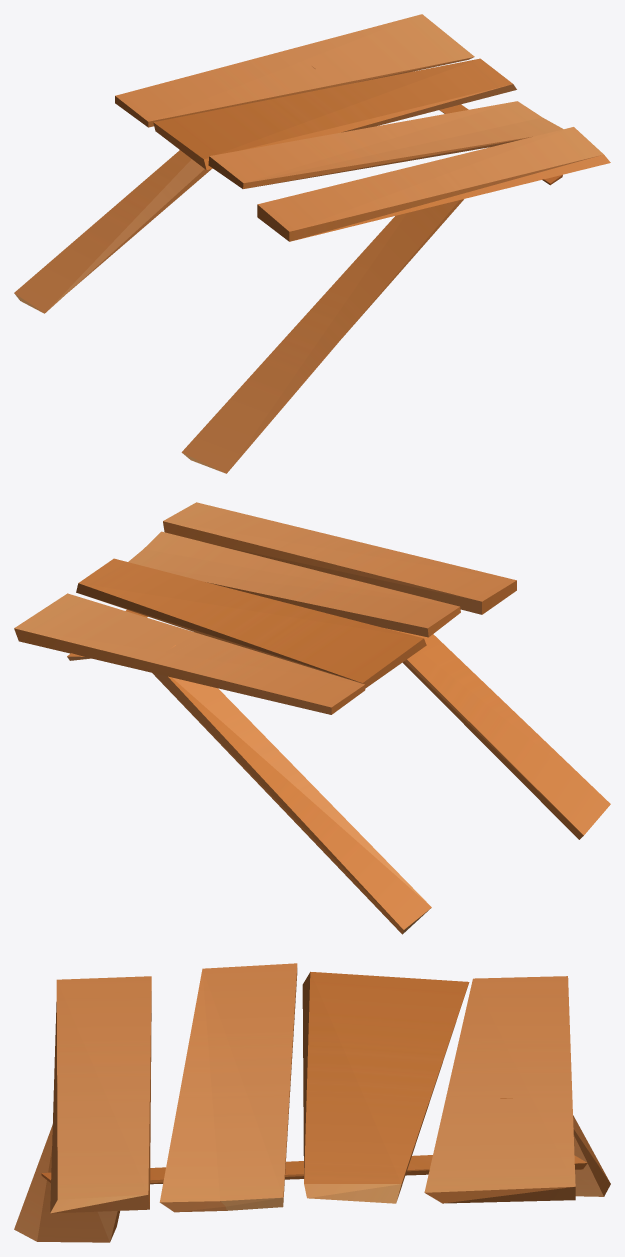
Rendered from GL-Manmade-01-LOD3.fbx.
3 views of the same model, one above another, from view 1: azimuth 30°, elevation 25°; view 2: azimuth 150°, elevation 25°; view 3: azimuth 270°, elevation 25° (orthographic). The views are drawn at different scales.
Visible parts, largest first — view 1: GL_Manmade_01; view 2: GL_Manmade_01; view 3: GL_Manmade_01.
Boxes of the visible parts, bbox=[...] form: GL_Manmade_01: bbox=[14, 14, 610, 473]; GL_Manmade_01: bbox=[14, 502, 610, 934]; GL_Manmade_01: bbox=[14, 963, 610, 1242].
Size of the model in its own units: 2.22 by 1.23 by 1.97.
